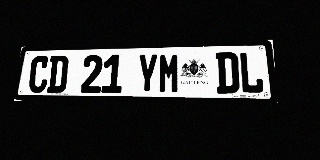1: (101, 54, 123, 93)
2: (81, 55, 103, 93)
C: (27, 56, 50, 93)
D: (215, 52, 240, 93), (46, 55, 69, 93)
L: (239, 51, 264, 94)
M: (158, 53, 180, 93)
Y: (136, 54, 158, 93)
